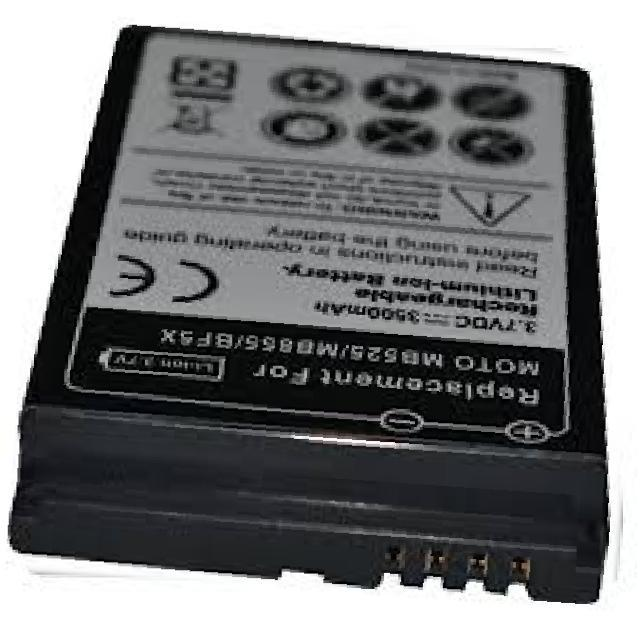Battery: (8, 20, 640, 622)
